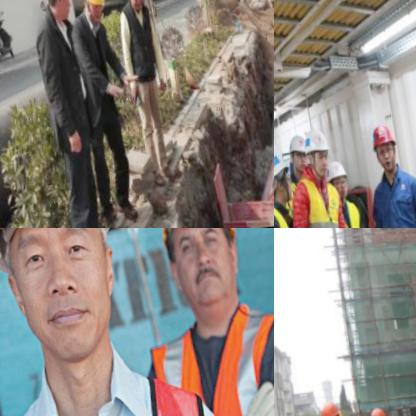helmet: (0, 228, 145, 409), (139, 228, 250, 338), (364, 118, 399, 179), (299, 129, 329, 179), (320, 159, 349, 203), (274, 145, 290, 211), (36, 0, 76, 26), (284, 136, 309, 177), (75, 0, 106, 24), (313, 399, 342, 416), (121, 0, 147, 16), (362, 404, 388, 416)
